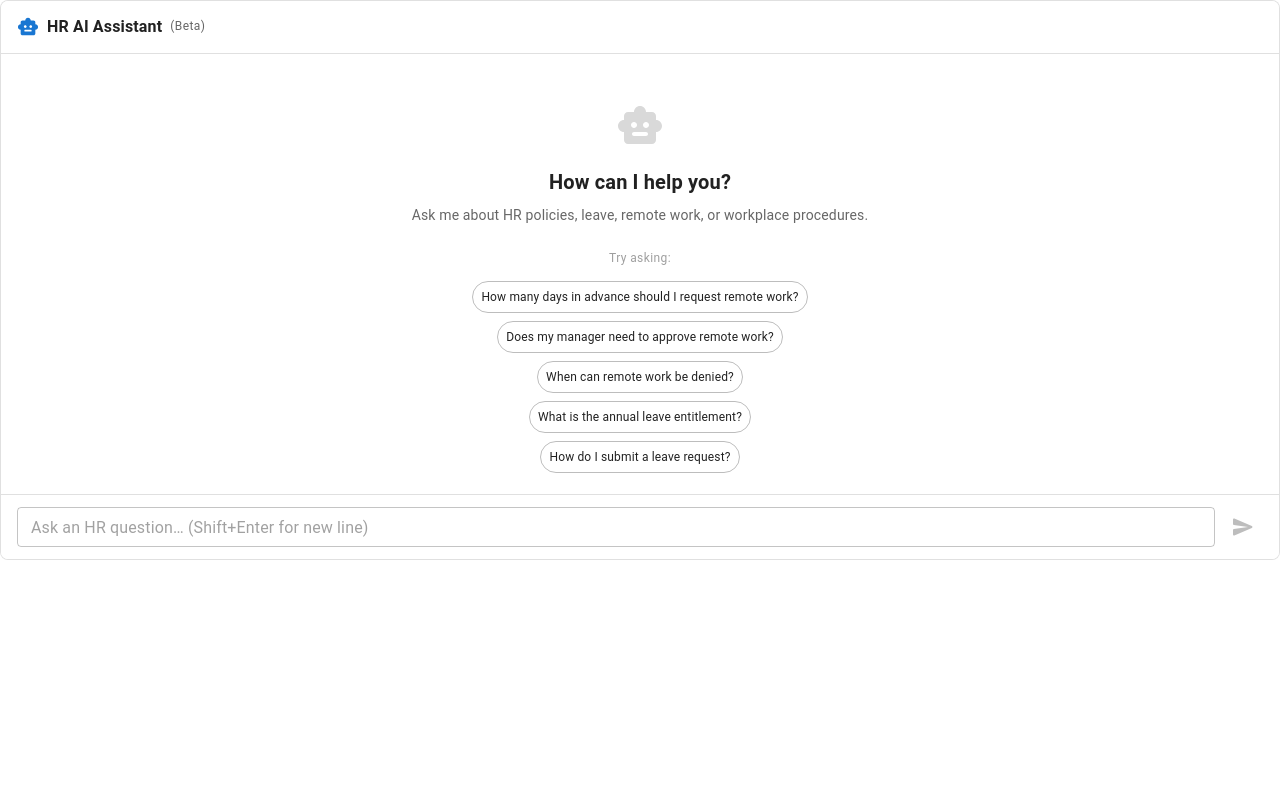
AiAssistantChat › Sending a message › displays the user message in the chat after sending
Type "What is annual leave?" into the text box named "message input" at [616, 527], box [31,516,1201,538]
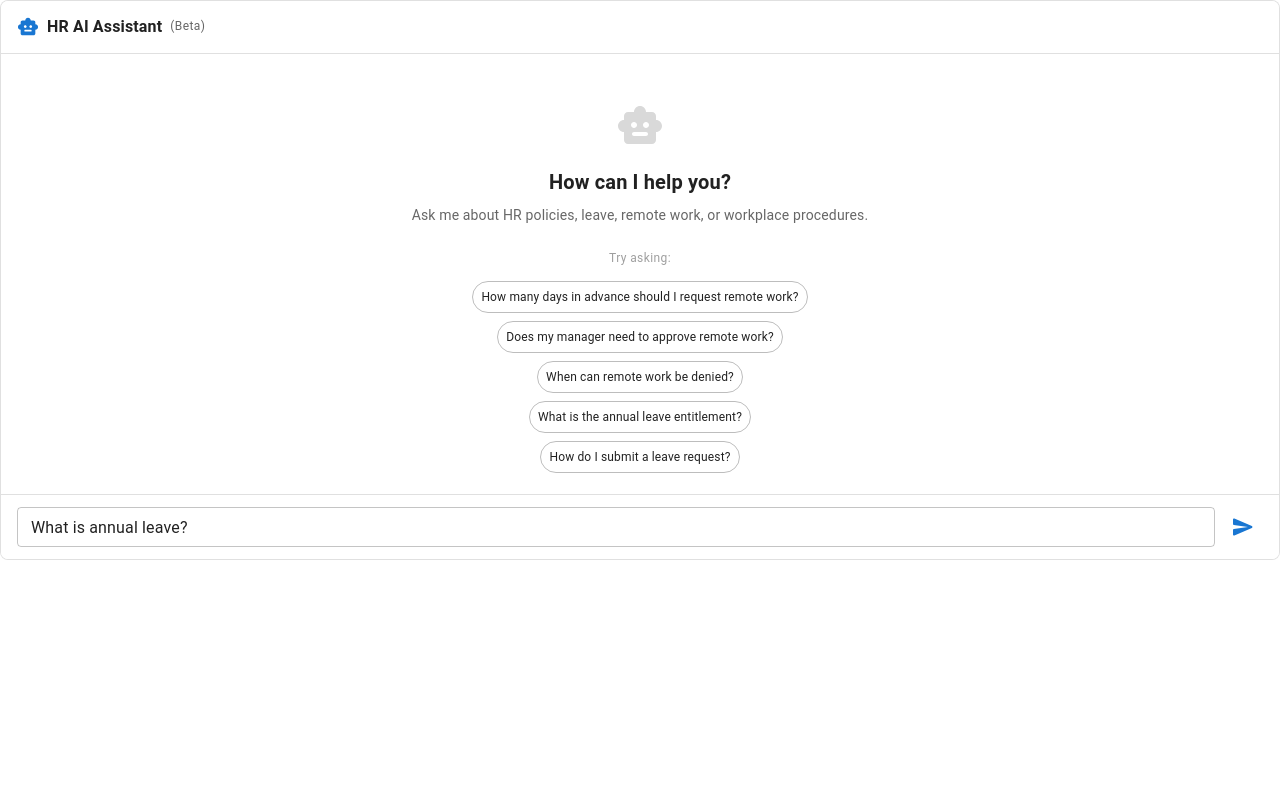
Click the button named "send message" at [1243, 527], box [1223,507,1263,547]
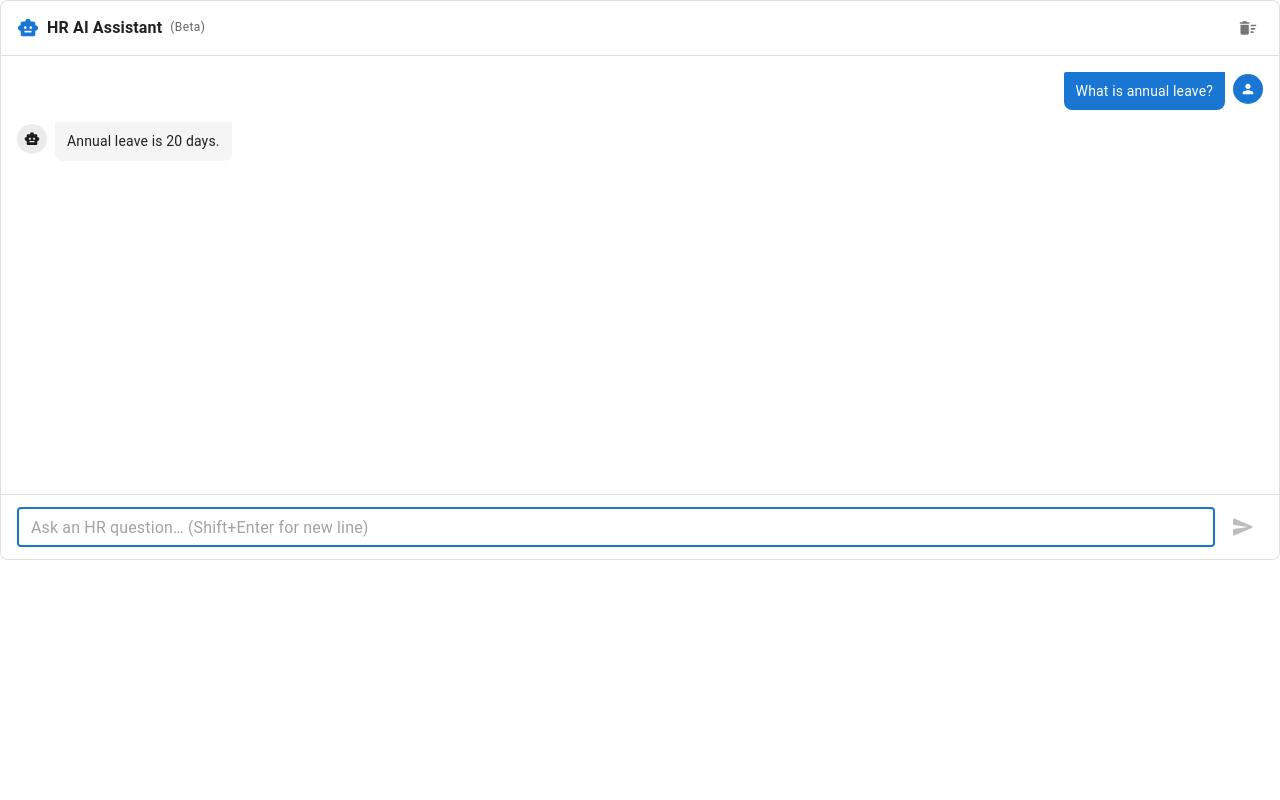
Expected: the text "What is annual leave?" is shown, [1076,80,1213,102]
